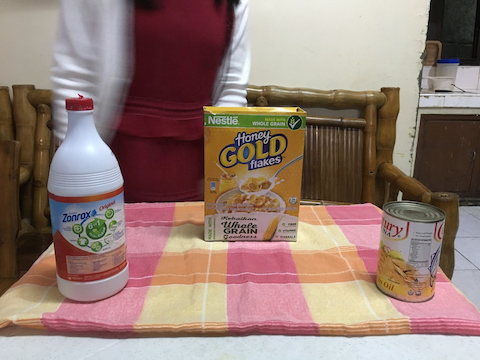bottle: (45, 94, 133, 303)
box: (199, 102, 309, 244)
can: (373, 199, 449, 306)
